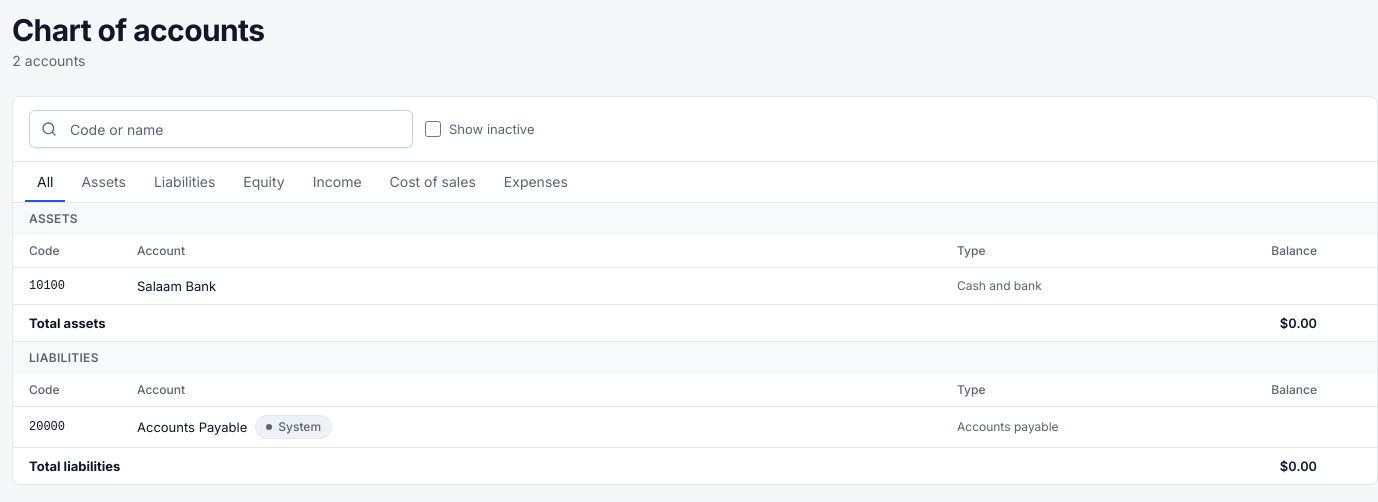
Test: ChartOfAccounts › filters by code
In the field named "Search accounts": (221, 129) [29,110,413,148], type "200"
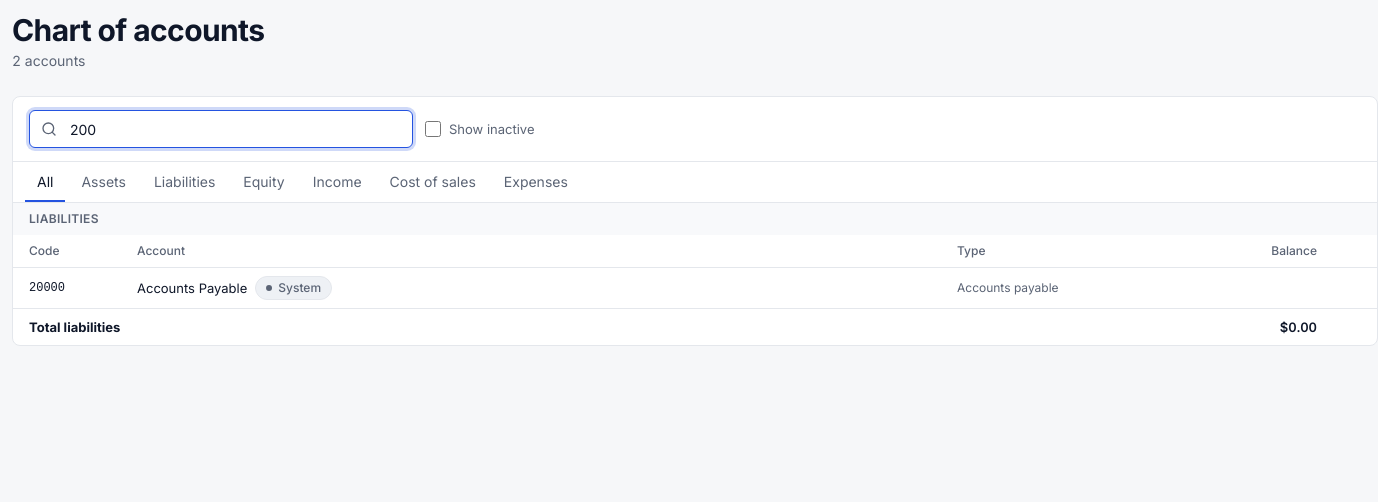
Expected: the text "20000" is shown, [13,268,125,308]
Result: the text "Salaam Bank" is gone
